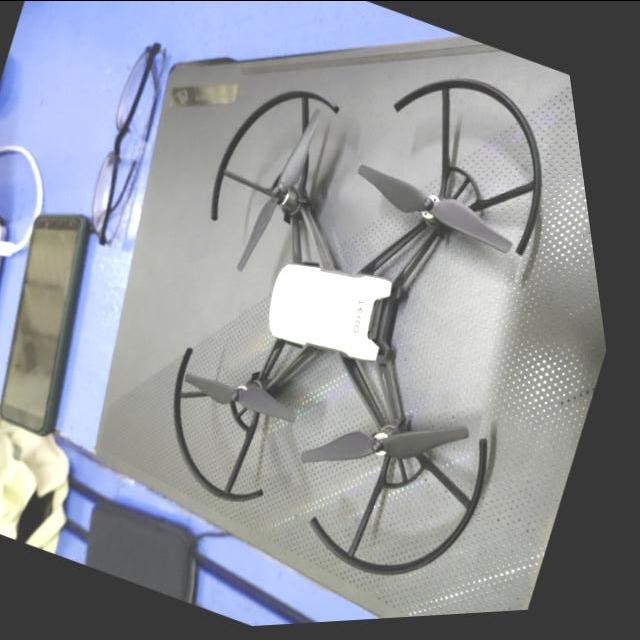drone: (173, 82, 563, 592)
